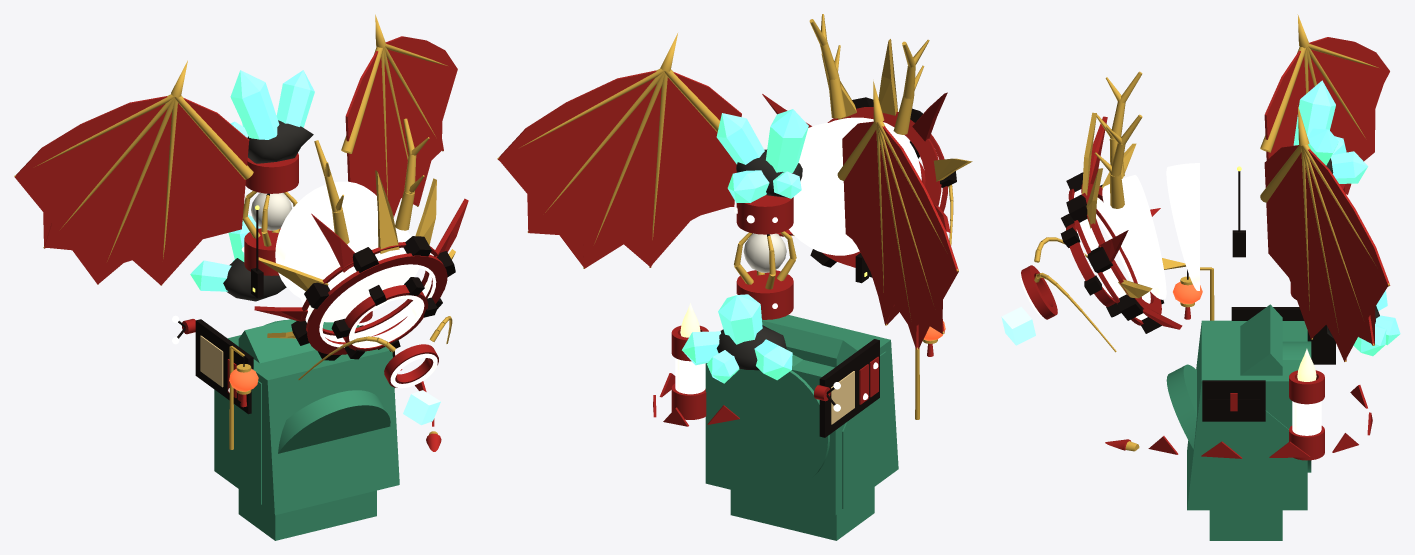
The model's file is JadeEmperorMine_Roblox.fbx.
3 views of the same model, side by side, from view 1: azimuth 30°, elevation 25°; view 2: azimuth 150°, elevation 25°; view 3: azimuth 270°, elevation 25° (orthographic). The views are drawn at different scales.
Parts seen in each view (by area): view 1: RedSilk, Jade, Neon, RedLacquer, GoldAntler, Black, GoldBone, Crystal, Rock, DragonPearl, Ore, Screen; view 2: RedSilk, Jade, RedLacquer, Crystal, Neon, GoldAntler, GoldBone, Black, Rock, DragonPearl, Screen; view 3: RedSilk, Jade, Neon, RedLacquer, Black, GoldAntler, Crystal, GoldBone, Ore, PaperLantern.
Boxes of the visible parts, x1,y1,x2,y2 form: RedSilk: [14, 36, 457, 451]; Jade: [214, 319, 399, 540]; Neon: [241, 181, 437, 388]; RedLacquer: [182, 153, 468, 426]; GoldAntler: [171, 14, 455, 449]; Black: [177, 192, 455, 414]; GoldBone: [14, 43, 447, 285]; Crystal: [190, 70, 314, 291]; Rock: [223, 120, 313, 301]; DragonPearl: [251, 193, 291, 230]; Ore: [403, 390, 440, 425]; Screen: [200, 335, 223, 387]; RedSilk: [498, 70, 958, 356]; Jade: [705, 315, 898, 540]; RedLacquer: [653, 92, 950, 426]; Crystal: [682, 109, 808, 383]; Neon: [675, 117, 942, 394]; GoldAntler: [660, 14, 972, 419]; GoldBone: [497, 68, 958, 349]; Black: [752, 97, 956, 437]; Rock: [716, 149, 802, 370]; DragonPearl: [743, 233, 786, 272]; Screen: [831, 371, 854, 424]; RedSilk: [1105, 37, 1390, 450]; Jade: [1166, 304, 1311, 540]; Neon: [1020, 163, 1349, 435]; RedLacquer: [1021, 116, 1372, 460]; Black: [1060, 171, 1335, 421]; GoldAntler: [1034, 14, 1309, 451]; Crystal: [1293, 80, 1400, 356]; GoldBone: [1260, 44, 1389, 361]; Ore: [1001, 306, 1035, 345]; PaperLantern: [1173, 282, 1202, 303].
Bounding box in the file's own units: 2094 × 2073 × 1641.
